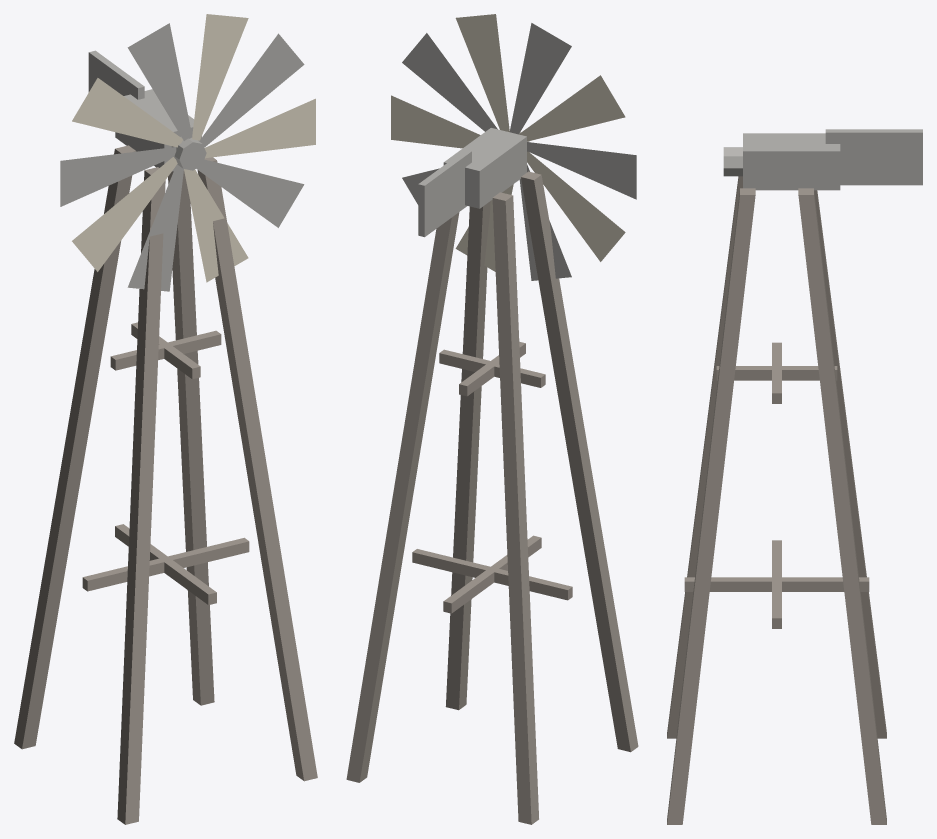
File: Windmill.glb
3 renders of one model, left to right at view 1: azimuth 30°, elevation 25°; view 2: azimuth 150°, elevation 25°; view 3: azimuth 270°, elevation 25°, orthographic. The views are drawn at different scales.
Visible parts, largest first — view 1: Tower, Blades; view 2: Tower, Blades; view 3: Tower, Blades.
Boxes of the visible parts, x1,y1,x2,y2 form: Tower: [14, 50, 317, 824]; Blades: [60, 14, 315, 291]; Tower: [346, 128, 638, 824]; Blades: [391, 14, 636, 280]; Tower: [667, 129, 922, 824]; Blades: [723, 147, 742, 176].
Bounding box in the file's own units: 3 × 8.51 × 2.63.
